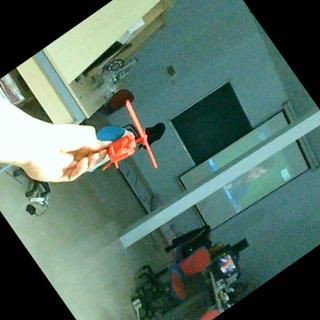Helicopter: (75, 95, 172, 194)
